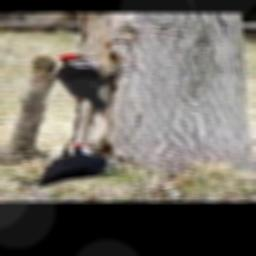Woodpecker: (56, 55, 135, 116), (42, 144, 128, 183)
